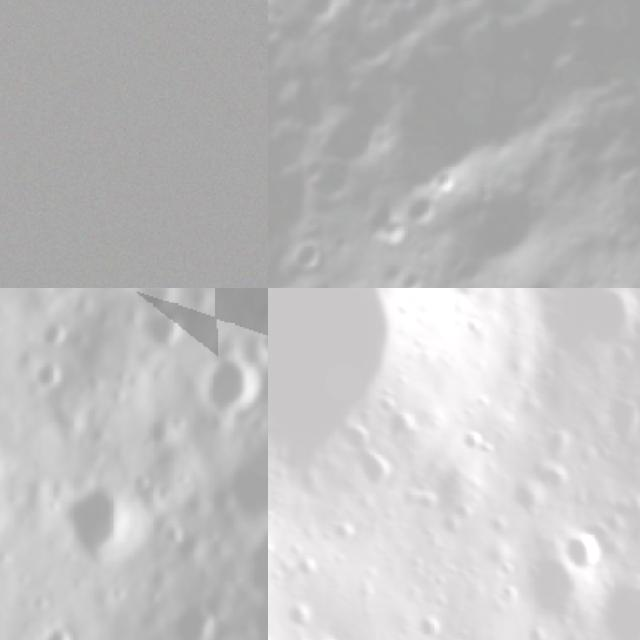crater: (268, 288, 405, 487), (41, 465, 163, 588), (453, 166, 567, 286), (166, 325, 268, 447), (199, 414, 268, 553), (32, 288, 257, 330), (524, 288, 635, 350), (509, 548, 582, 638), (225, 488, 268, 628), (128, 297, 196, 374), (597, 574, 640, 640), (284, 227, 336, 280), (422, 157, 472, 205), (396, 183, 446, 231), (25, 608, 93, 640), (242, 303, 268, 377), (556, 528, 601, 570), (505, 481, 547, 522), (388, 261, 439, 288), (411, 610, 445, 640), (280, 600, 311, 629), (298, 270, 344, 288), (445, 288, 492, 303)
